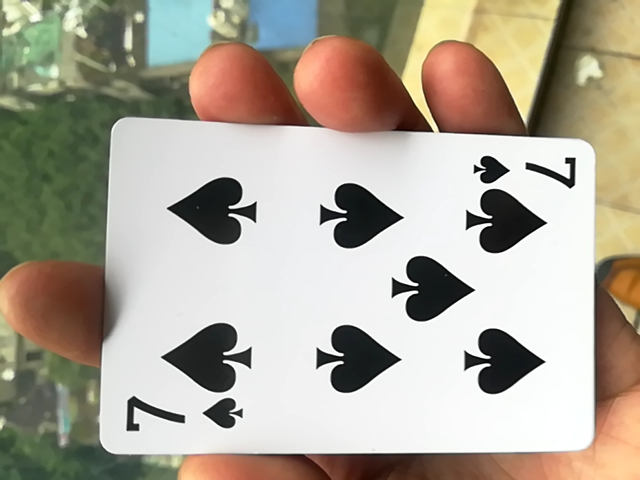ht 7: (85, 114, 588, 467)
